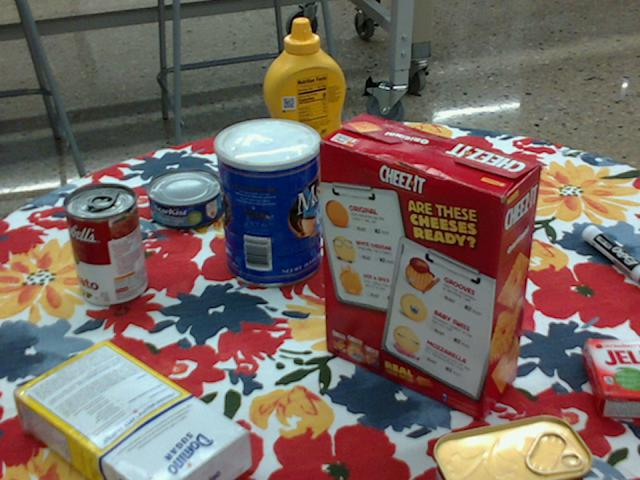cracker_box: (319, 116, 539, 424)
gelatin_box: (579, 341, 639, 419)
large_marker: (580, 228, 639, 288)
master_chef_can: (215, 119, 320, 288)
mug: (408, 145, 493, 233)
mustard_bottle: (264, 22, 347, 188)
potted_meat_can: (430, 414, 588, 479)
sugar_box: (13, 340, 248, 479)
tomato_soup_can: (65, 182, 146, 305)
tuna_fish_can: (148, 170, 225, 229)
